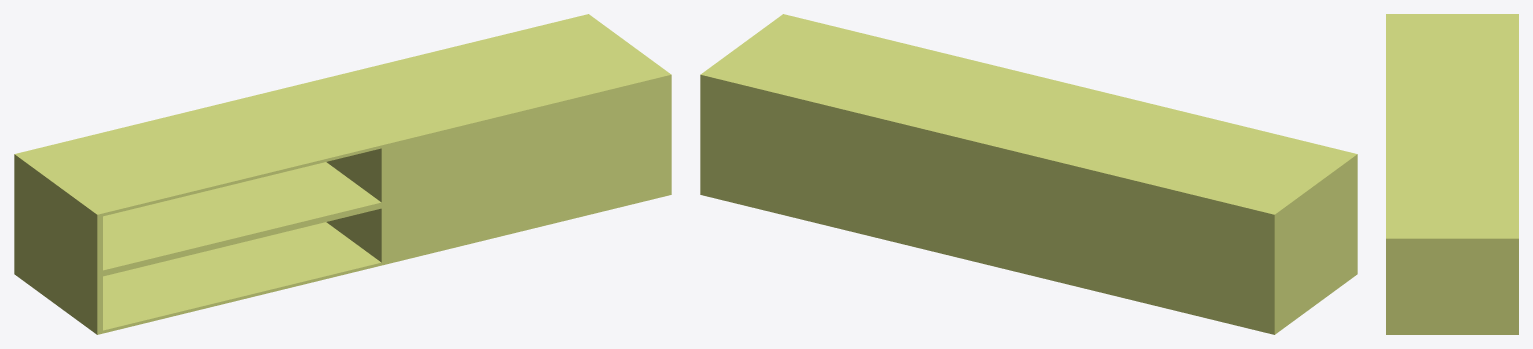
Rendered from TV-unitesi.fbx.
3 views of the same model, side by side, from view 1: azimuth 30°, elevation 25°; view 2: azimuth 150°, elevation 25°; view 3: azimuth 270°, elevation 25° (orthographic). The views are drawn at different scales.
Parts seen in each view (by area): view 1: TV_STAND; view 2: TV_STAND; view 3: TV_STAND.
Part boxes in pixels (x1,y1,x2,y2): TV_STAND: (14, 14, 671, 334); TV_STAND: (700, 14, 1357, 334); TV_STAND: (1386, 14, 1518, 334).
Size of the model in its own units: 200 by 40 by 50.
